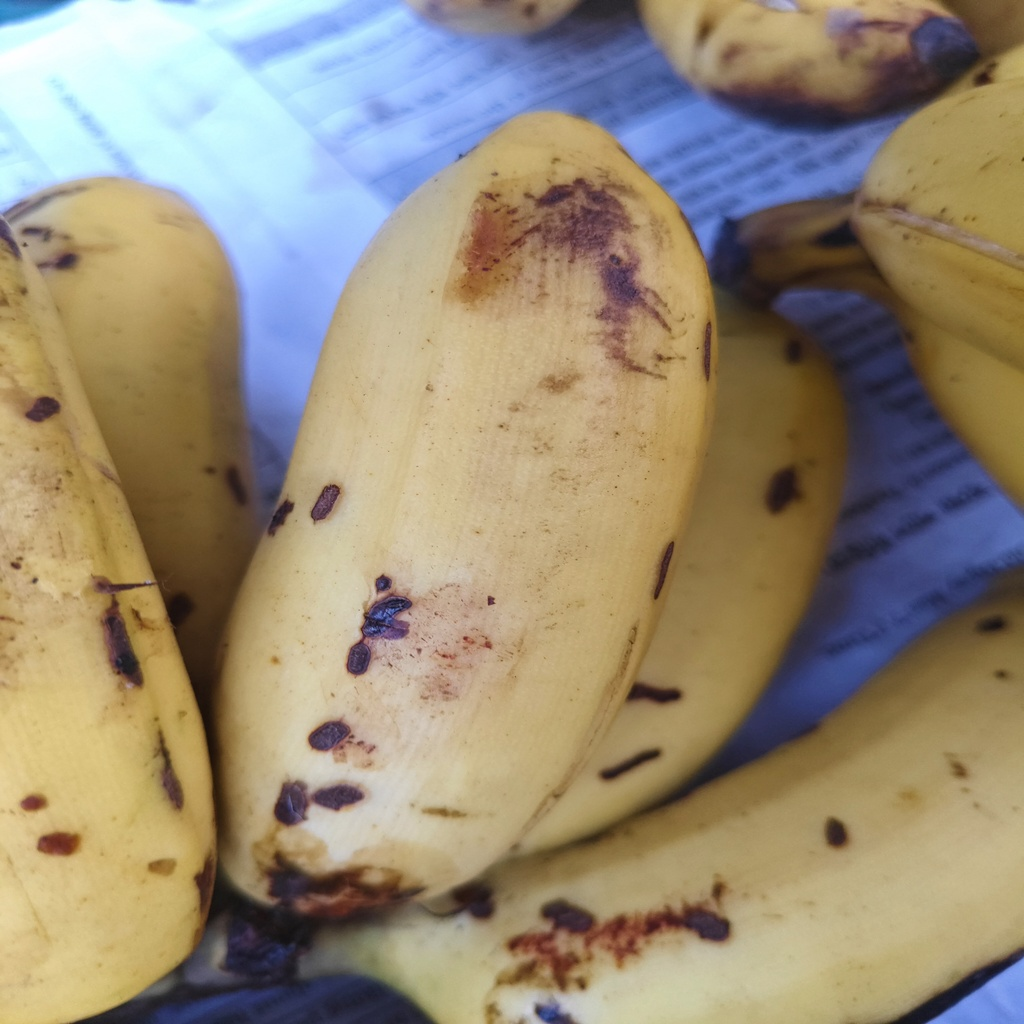unhealthy: (218, 109, 714, 910)
